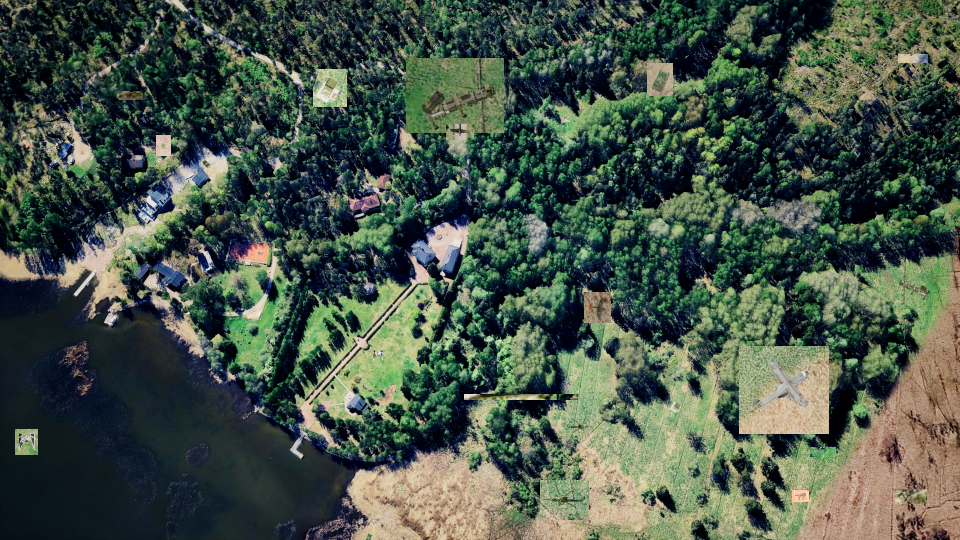condor: (739, 346, 829, 434)
hangar: (464, 394, 578, 400)
helicopter: (540, 480, 589, 520)
jammer: (647, 63, 673, 96)
jet_plane: (810, 447, 836, 457)
large_launcher: (406, 58, 504, 133)
large_tower: (895, 489, 927, 504)
medium_launcher: (119, 91, 143, 100)
medium_plane: (446, 124, 474, 140)
mine_roller: (758, 355, 790, 390)
small_launcher: (156, 135, 171, 156)
small_plane: (584, 292, 611, 323)
small_tower: (313, 69, 347, 107)
spacecraft: (15, 429, 38, 455)
ta-ta: (792, 490, 809, 502)
tank: (898, 54, 928, 63)
